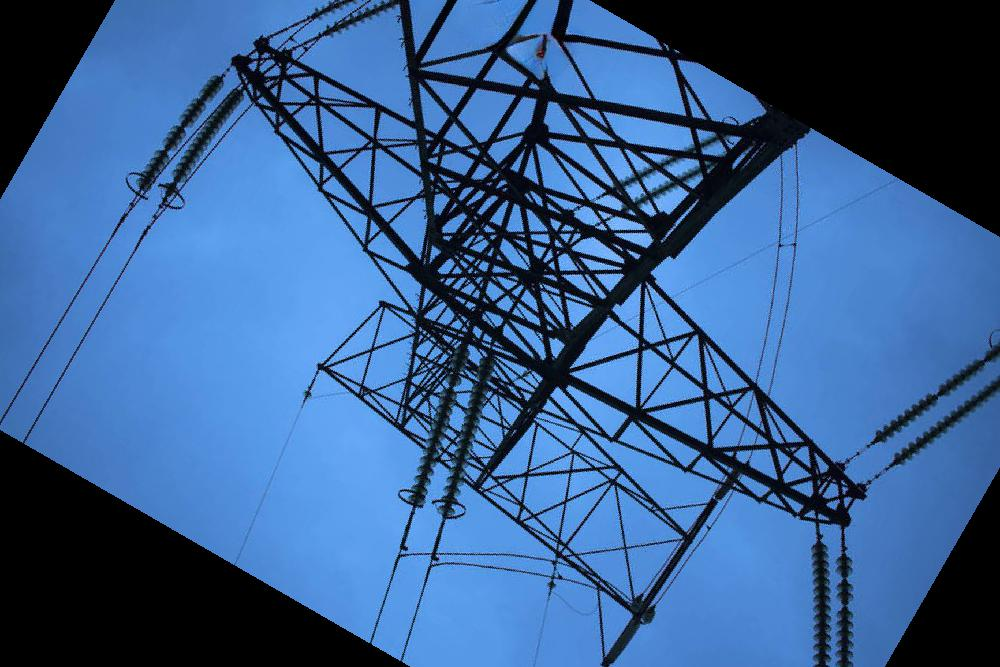insulator: (871, 343, 1000, 446), (134, 70, 228, 196), (406, 342, 473, 507), (435, 352, 499, 517), (890, 375, 1000, 467), (169, 86, 247, 185), (808, 538, 835, 667), (622, 145, 700, 188), (321, 1, 401, 42), (633, 164, 704, 209), (832, 554, 858, 667), (311, 1, 363, 25)
insulator_stringdrop: (923, 380, 953, 409), (971, 345, 999, 374), (438, 371, 463, 403), (152, 135, 179, 162), (170, 111, 196, 139), (833, 562, 855, 594), (833, 591, 855, 622), (190, 86, 215, 111)
